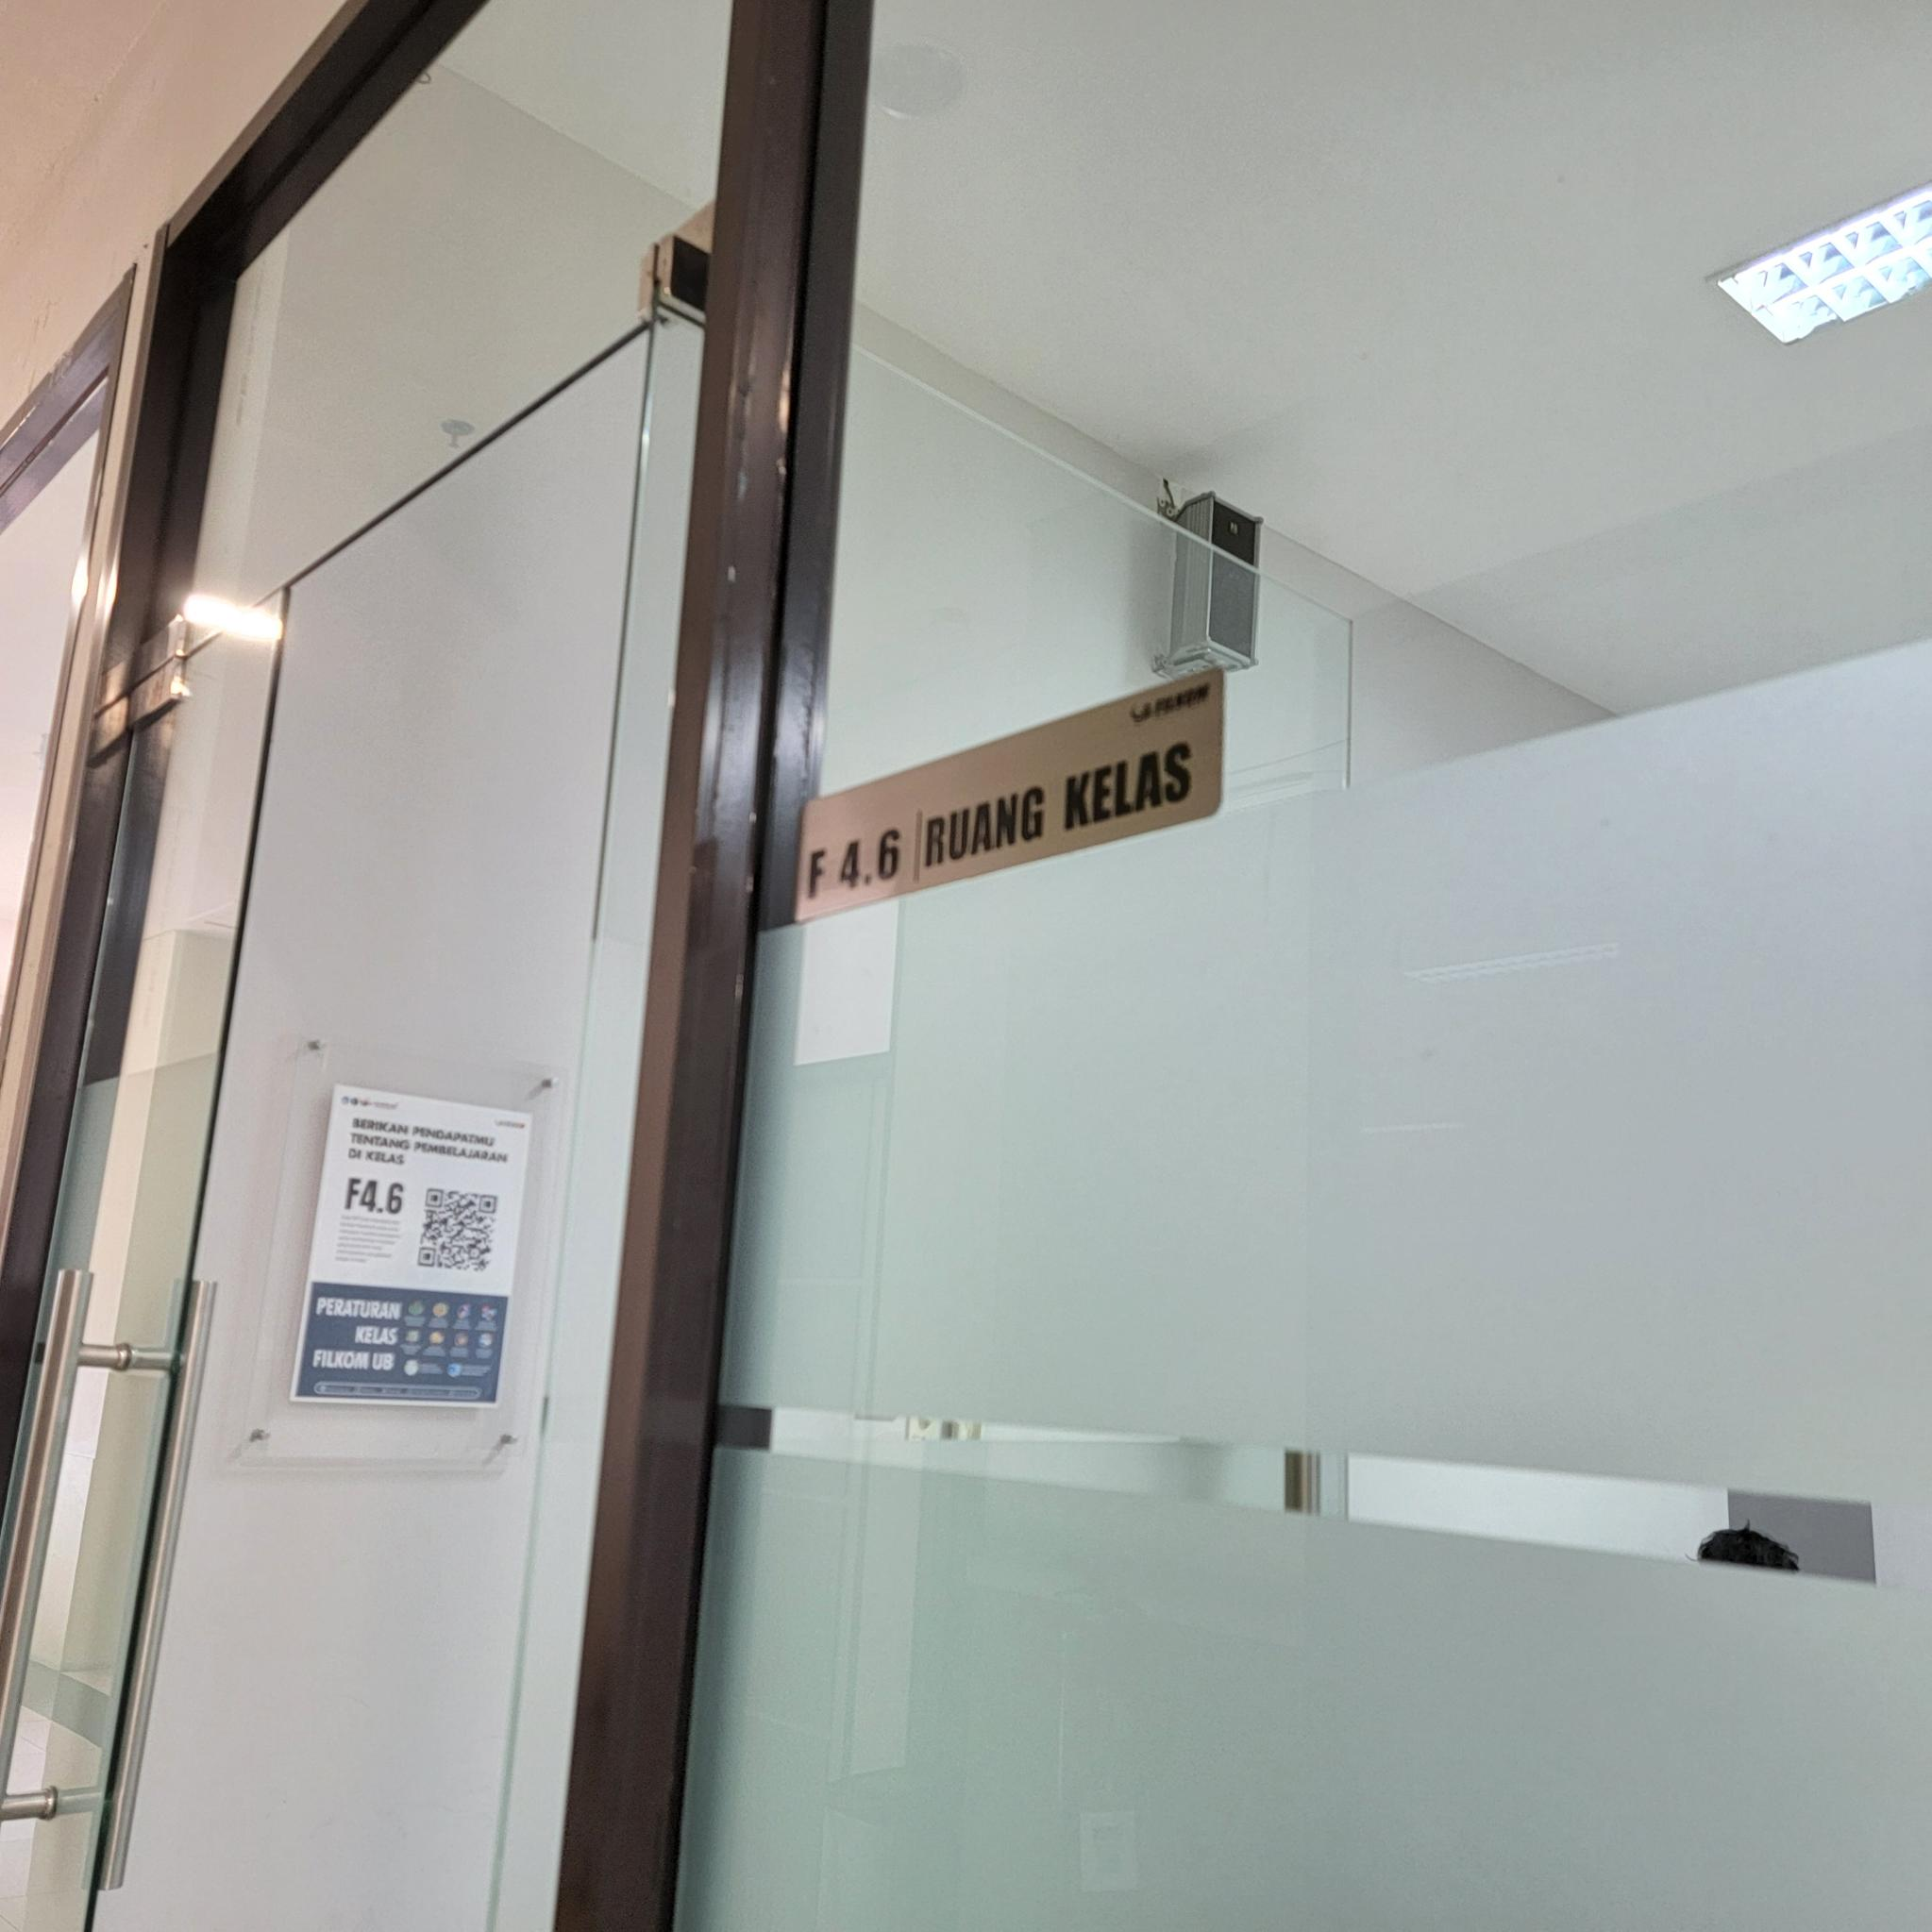plate: (791, 663, 1224, 927)
